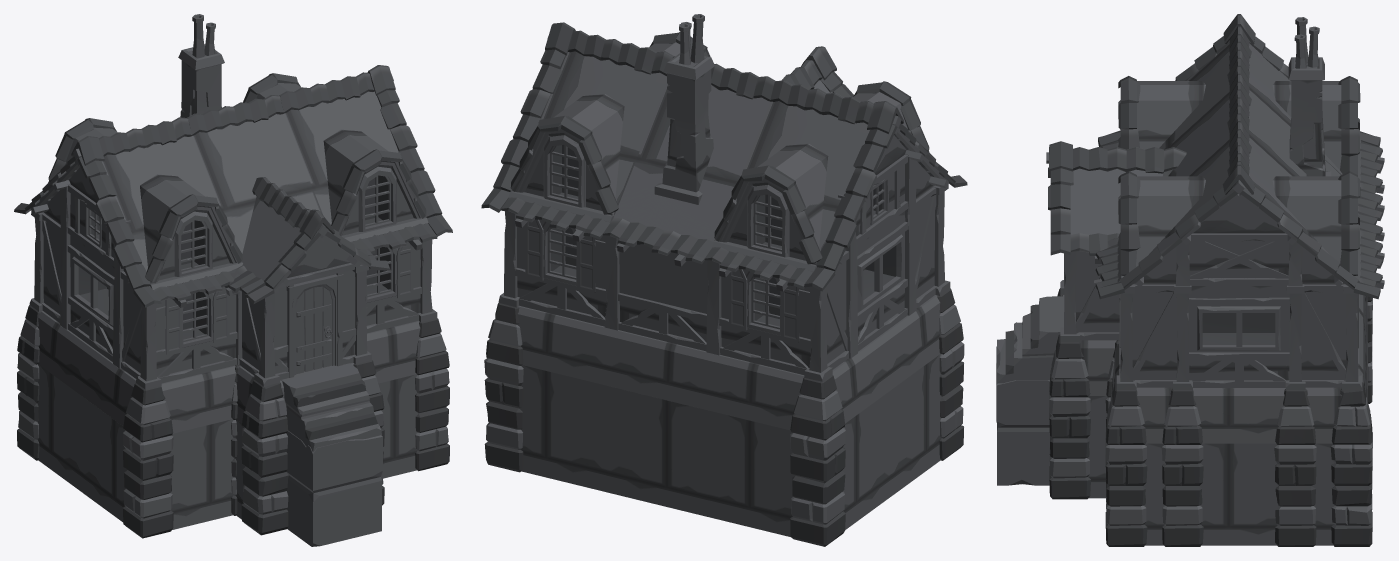
The model's file is kn_bld_techlab.gltf.
3 renders of one model, left to right at view 1: azimuth 30°, elevation 25°; view 2: azimuth 150°, elevation 25°; view 3: azimuth 270°, elevation 25°, orthographic. The views are drawn at different scales.
Parts seen in each view (by area): view 1: kn_bld_techlab; view 2: kn_bld_techlab; view 3: kn_bld_techlab.
Part boxes in pixels (left/top/right/bottom): kn_bld_techlab: left=14, top=14, right=452, bottom=546; kn_bld_techlab: left=481, top=14, right=967, bottom=546; kn_bld_techlab: left=996, top=14, right=1384, bottom=546.
Bounding box in the file's own units: 8.56 × 10.91 × 8.61.
Materials: 1 (1 with a texture image).
